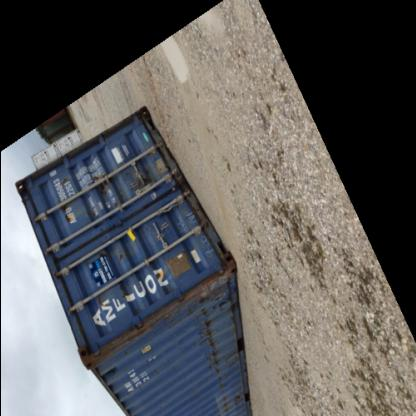Damage: (78, 316, 158, 366), (202, 297, 218, 386), (84, 161, 114, 193), (190, 232, 214, 270), (50, 197, 79, 227), (210, 393, 247, 415), (128, 172, 152, 198), (90, 245, 122, 264), (175, 213, 199, 227)
